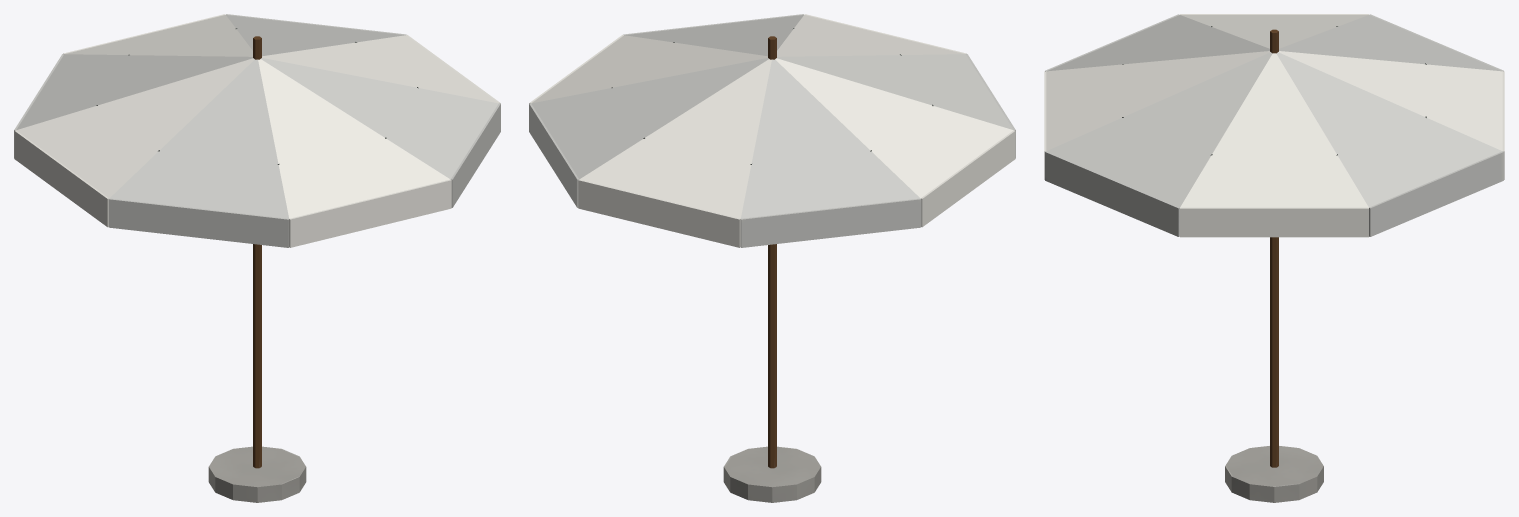
The model's file is slunecnik_4d617408.glb.
The picture shows the model from 3 angles, left to right: view 1: azimuth 30°, elevation 25°; view 2: azimuth 150°, elevation 25°; view 3: azimuth 270°, elevation 25°; orthographic projection.
Visible parts, largest first — view 1: dum; view 2: dum; view 3: dum.
Part boxes in pixels (x1=…): dum: x1=14, y1=14, x2=500, y2=502; dum: x1=529, y1=14, x2=1015, y2=502; dum: x1=1044, y1=14, x2=1504, y2=502.
Bounding box in the file's own units: 2.6 × 2.81 × 2.6.
Materials: 1 (1 with a texture image).
